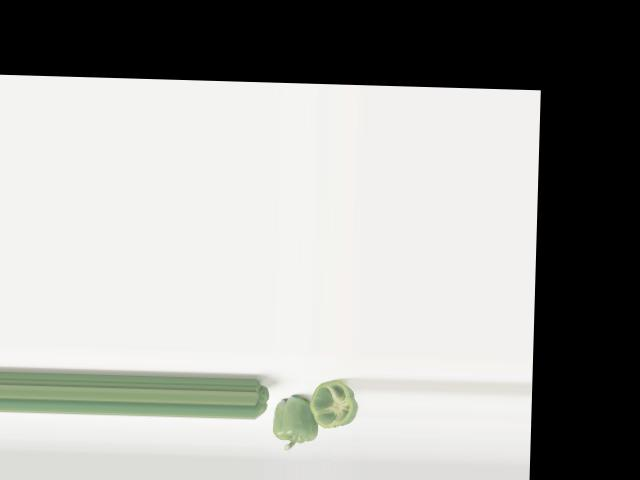bell_pepper: (306, 376, 361, 434)
